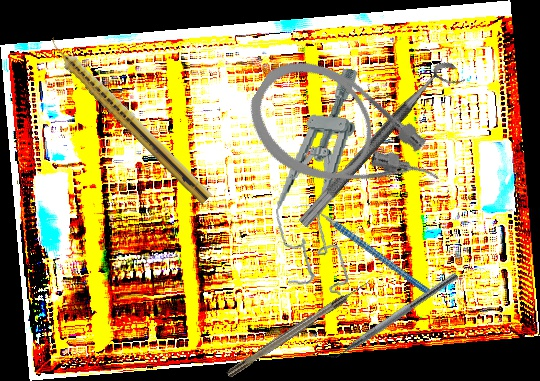Cannula: (230, 39, 459, 239)
Chopper: (294, 170, 432, 328), (320, 263, 459, 369)
Fixation Ring: (296, 56, 469, 241)
Handpiece: (43, 33, 216, 205)
Hook Surgical: (225, 278, 372, 379)
Speculum: (267, 62, 374, 296)
